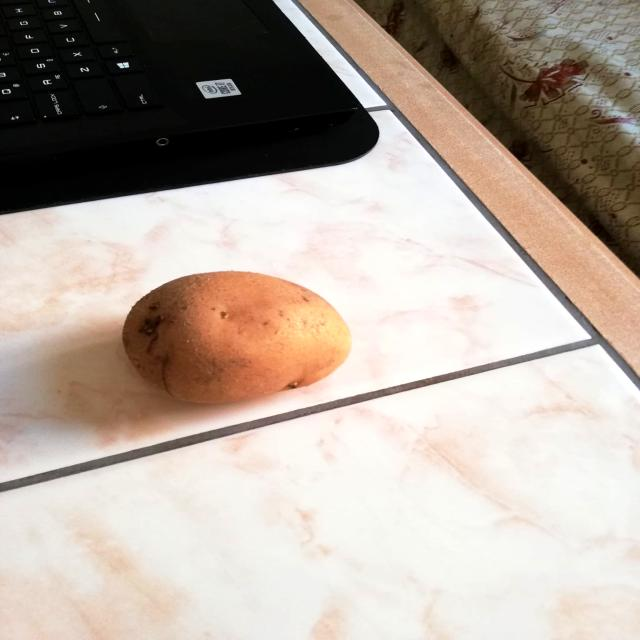potato: (115, 264, 360, 408)
